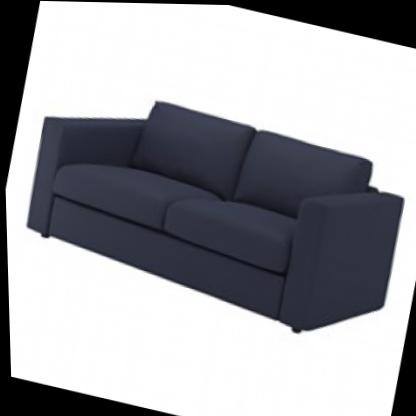Sofa: (1, 34, 416, 366)
